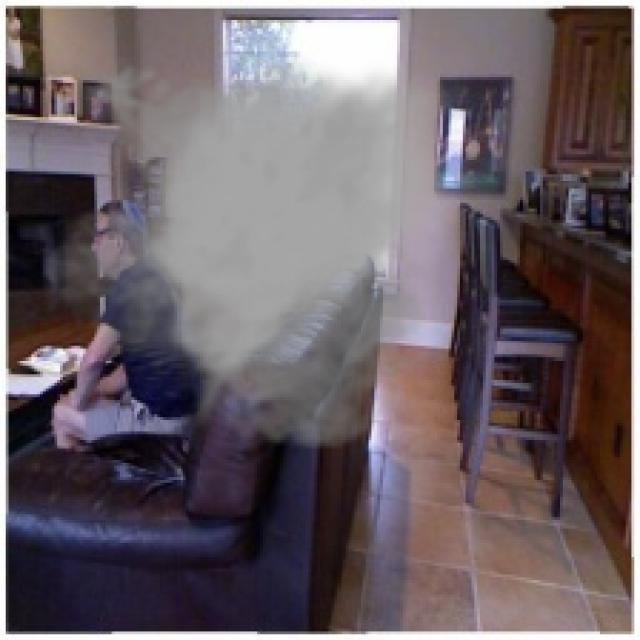Smoke: (43, 52, 460, 454)
